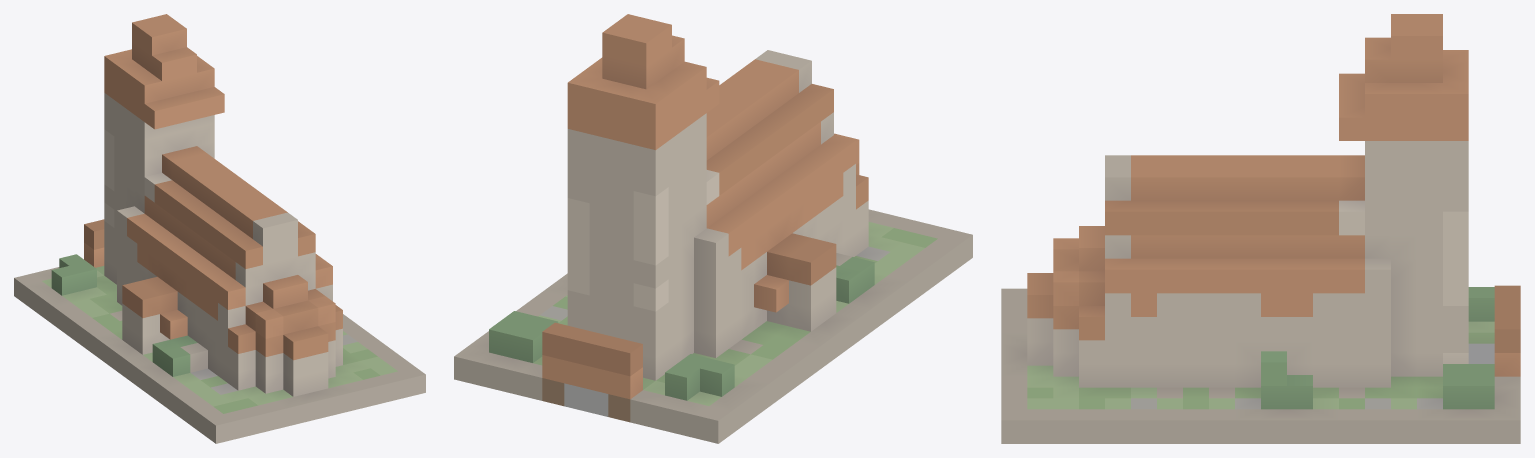
The model's file is church.lite.glb.
The picture shows the model from 3 angles, left to right: view 1: azimuth 30°, elevation 25°; view 2: azimuth 150°, elevation 25°; view 3: azimuth 270°, elevation 25°; orthographic projection. The views are drawn at different scales.
Parts seen in each view (by area): view 1: church; view 2: church; view 3: church.
Part boxes in pixels (box(x1,y1,x2,y2)): church: box(14, 14, 425, 443); church: box(454, 14, 972, 443); church: box(1001, 14, 1520, 443).
Bounding box in the file's own units: 6 × 7.5 × 10.
